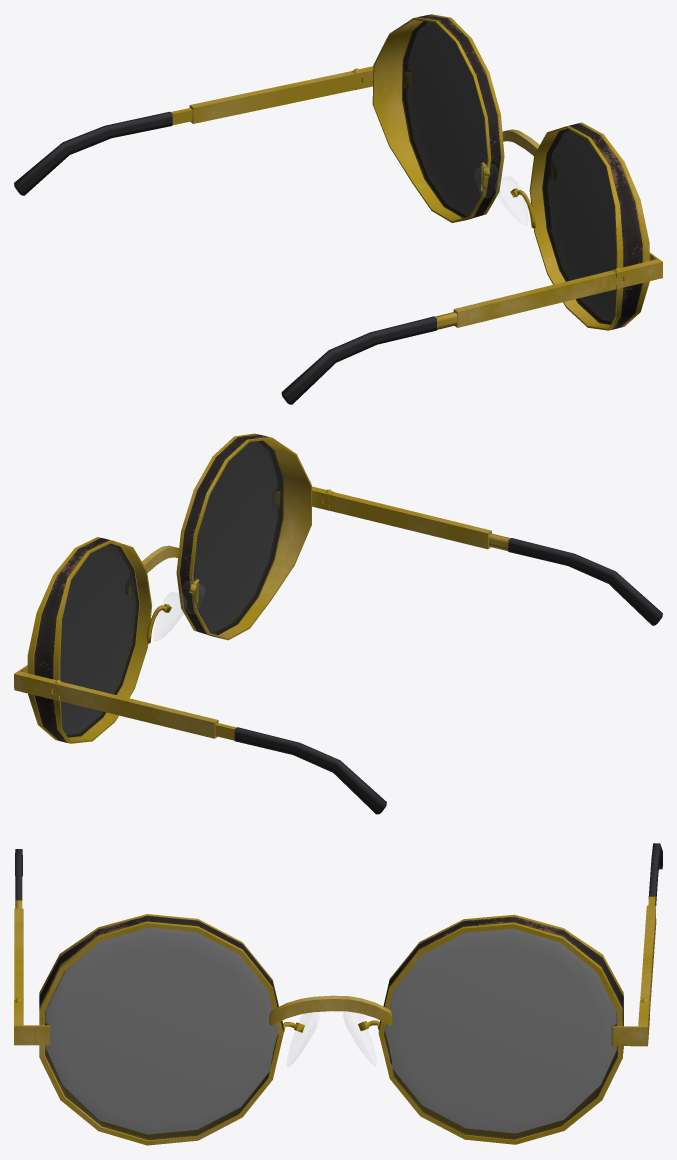
File: sunglasses.glb
3 renders of one model, top to bottom at view 1: azimuth 30°, elevation 25°; view 2: azimuth 150°, elevation 25°; view 3: azimuth 270°, elevation 25°, orthographic. The views are drawn at different scales.
Parts seen in each view (by area): view 1: Cube.000; view 2: Cube.000; view 3: Cube.000.
Boxes of the visible parts, bbox=[...] form: Cube.000: bbox=[14, 14, 662, 404]; Cube.000: bbox=[14, 433, 662, 814]; Cube.000: bbox=[14, 843, 662, 1145].
Size of the model in its own units: 1.61 by 0.762 by 2.
Materials: 5 (4 with a texture image).
